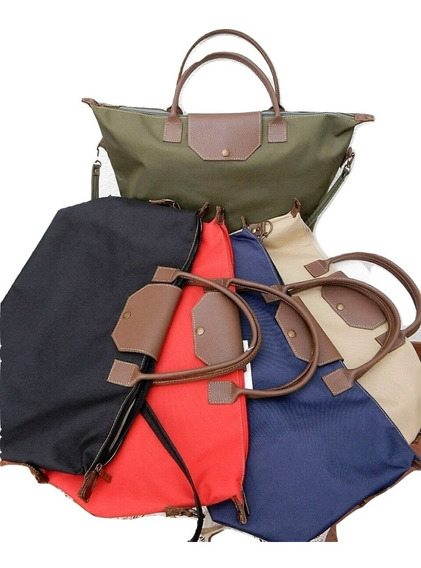cartera: (4, 192, 262, 521), (224, 198, 421, 546), (77, 28, 379, 230)
